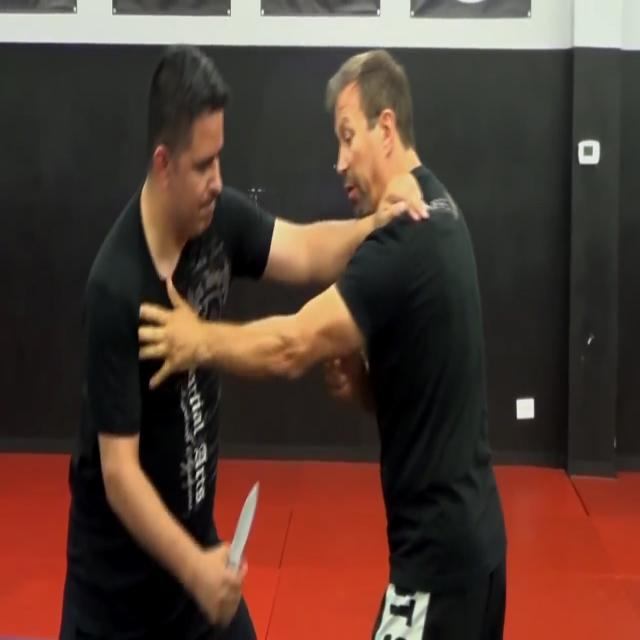knife: (228, 473, 264, 577)
